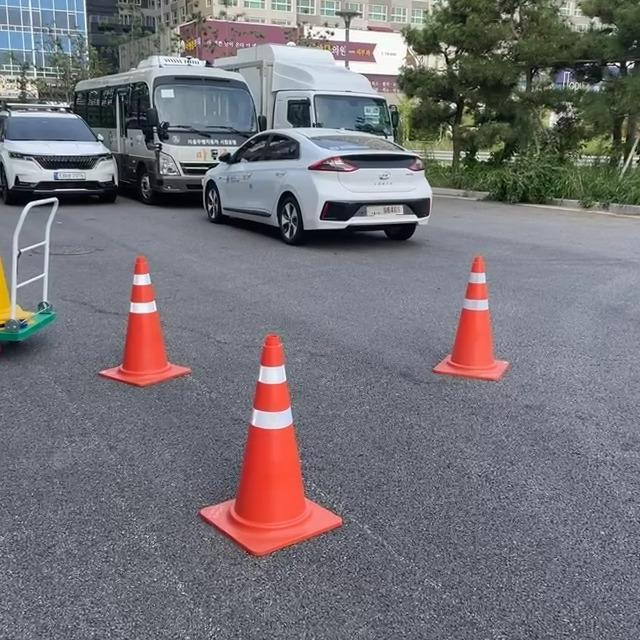fallen_object: (417, 213, 576, 453), (190, 319, 321, 579), (100, 256, 202, 397)
